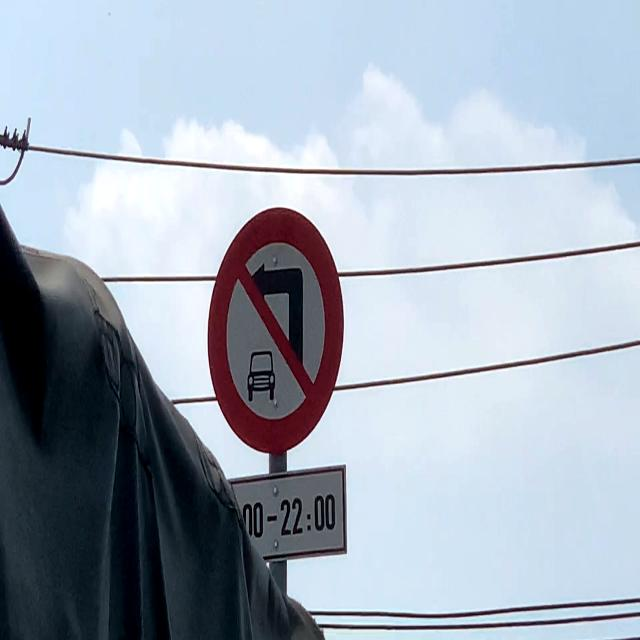P.103c: (210, 204, 347, 454)
